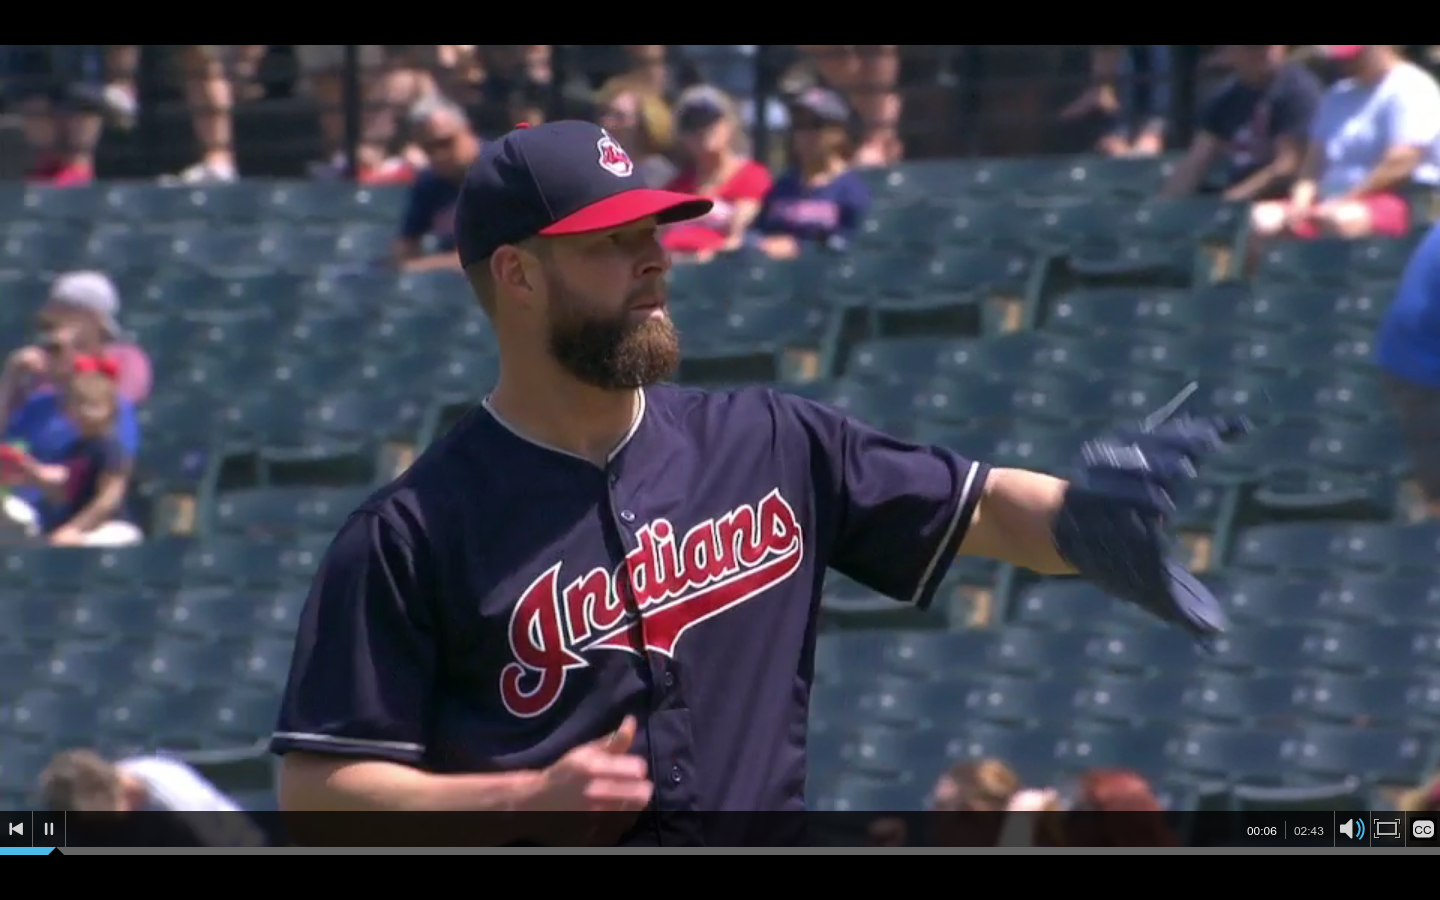baseball player: (259, 117, 1264, 809)
